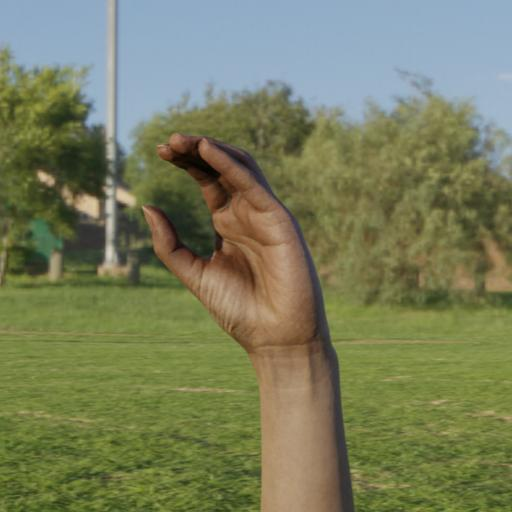C: (126, 97, 435, 379)
